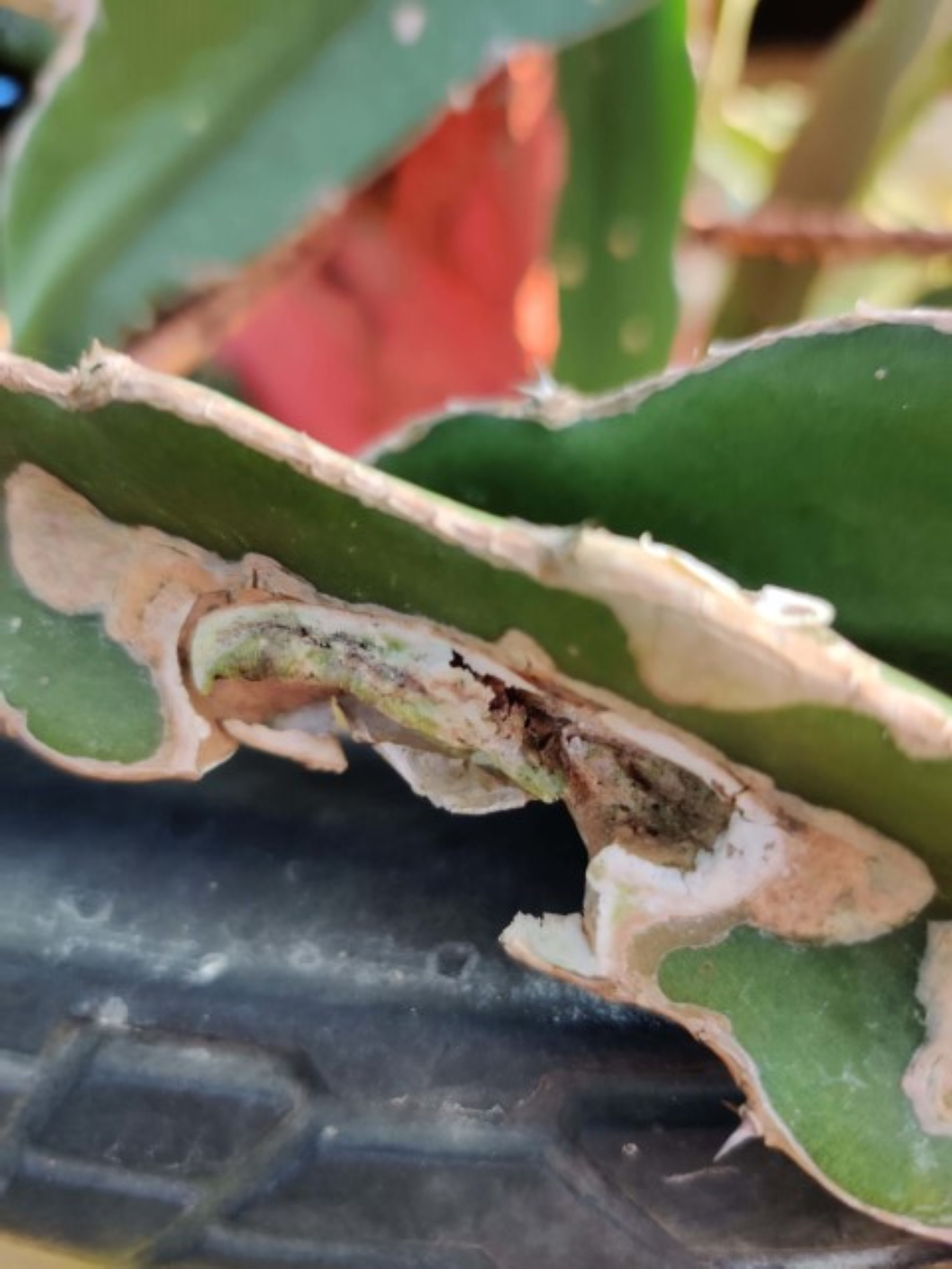stemcanker: (112, 537, 804, 980)
